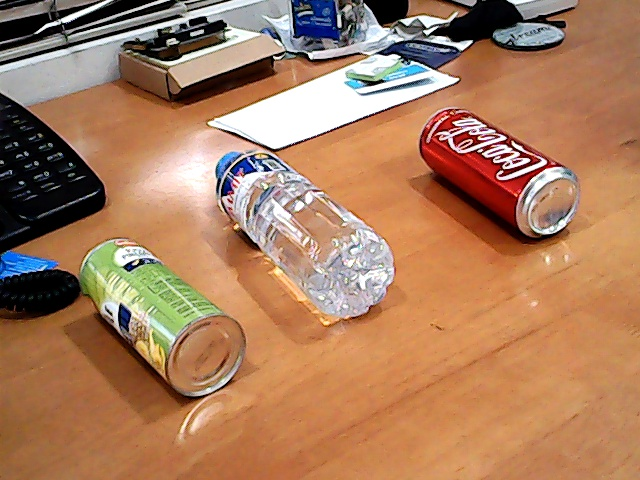Cola: (402, 93, 600, 257)
Pine Juice: (53, 228, 256, 412)
Summit Water: (204, 132, 412, 333)
